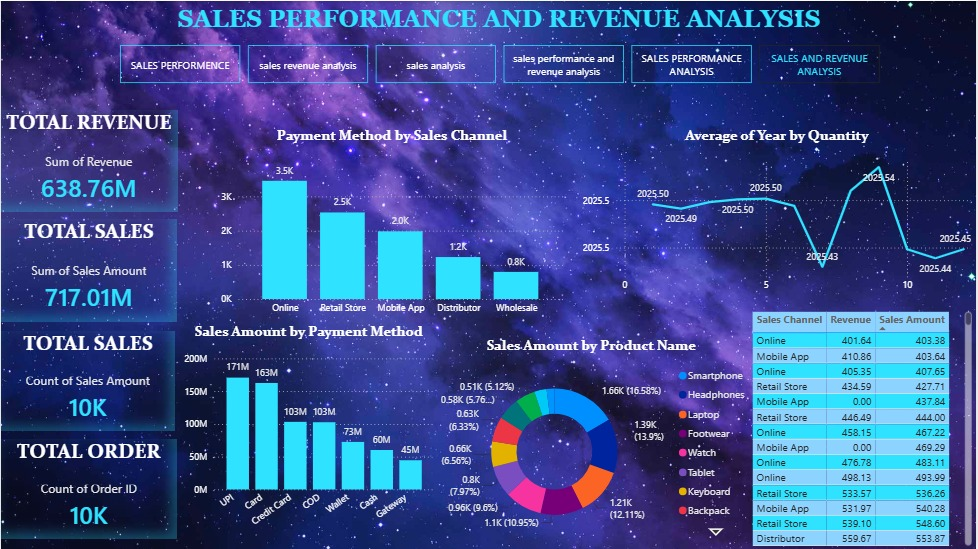

What the dashboard file says about the page in this screenshot:
{"tool":"powerbi","page":{"name":"SALES AND REVENUE ANALYSIS","canvas":[1280,720],"ordinal":5},"visuals":[{"type":"textbox","box":[228.5,0,858.8,57.8],"z":0,"group":"g1"},{"type":"columnChart","title":"Sales Amount by Payment Method","fields":{"Category":["Sales_Data.Payment Method"],"Y":["Sum(Sales_Data.Sales Amount)"]},"box":[235.4,421.2,338.6,289],"z":0},{"type":"pageNavigator","box":[156.9,57.8,1000,50],"z":1000,"group":"g1"},{"type":"donutChart","title":"Sales Amount by Product Name","fields":{"Category":["Sales_Data.Product Name"],"Y":["CountNonNull(Sales_Data.Sales Amount)"]},"box":[560.2,440.4,431.7,269.9],"z":1000},{"type":"columnChart","title":"Payment Method by Sales Channel","fields":{"Category":["Sales_Data.Sales Channel"],"Y":["CountNonNull(Sales_Data.Payment Method)"]},"box":[283.5,163.8,459.7,257.4],"z":2000},{"type":"cardVisual","title":"TOTAL REVENUE","fields":{"Data":["Sum(Sales_Data.Revenue)"]},"box":[0,143,231.7,134.4],"z":3000},{"type":"cardVisual","title":"TOTAL SALES","fields":{"Data":["CountNonNull(Sales_Data.Sales Amount)"]},"box":[0,433.3,228.8,131.6],"z":4000},{"type":"lineChart","fields":{"Category":["Sales_Data.Quantity"],"Y":["Avg(Sales_Data.Year)"]},"box":[759.7,163.8,520.3,227.1],"z":5000},{"type":"cardVisual","title":"TOTAL SALES","fields":{"Data":["Sum(Sales_Data.Sales Amount)"]},"box":[0,286.3,231.2,134.9],"z":6000},{"type":"cardVisual","title":"TOTAL ORDER","fields":{"Data":["CountNonNull(Sales_Data.Order ID)"]},"box":[0,575.3,231.2,130.8],"z":7000},{"type":"tableEx","fields":{"Values":["Sales_Data.Sales Channel","Sales_Data.Revenue","Sales_Data.Sales Amount"]},"box":[981.3,403.3,298.7,316.6],"z":8000},{"type":"group","id":"g1","title":"Header","box":[156.9,0,1000,107.8],"z":8001}]}

Visuals, with their boxes in screenshot pixels (x1, y1, x2, y2), scaled from the page's 1280x720 canvas onto the 978x549 screenshot:
textbox: pyautogui.locateOnScreen(175, 0, 831, 44)
"Sales Amount by Payment Method" columnChart: pyautogui.locateOnScreen(180, 321, 439, 542)
pageNavigator: pyautogui.locateOnScreen(120, 44, 884, 82)
"Sales Amount by Product Name" donutChart: pyautogui.locateOnScreen(428, 336, 758, 542)
"Payment Method by Sales Channel" columnChart: pyautogui.locateOnScreen(217, 125, 568, 321)
"TOTAL REVENUE" cardVisual: pyautogui.locateOnScreen(0, 109, 177, 212)
"TOTAL SALES" cardVisual: pyautogui.locateOnScreen(0, 330, 175, 431)
lineChart - Sales_Data.Quantity x Avg(Sales_Data.Year): pyautogui.locateOnScreen(580, 125, 977, 298)
"TOTAL SALES" cardVisual: pyautogui.locateOnScreen(0, 218, 177, 321)
"TOTAL ORDER" cardVisual: pyautogui.locateOnScreen(0, 439, 177, 538)
tableEx - Sales_Data.Sales Channel x Sales_Data.Revenue: pyautogui.locateOnScreen(750, 308, 977, 548)
"Header" group: pyautogui.locateOnScreen(120, 0, 884, 82)
